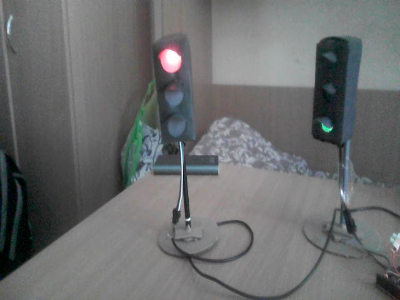trafficlight_green: (313, 42, 344, 139)
trafficlight_red: (154, 45, 193, 140)
